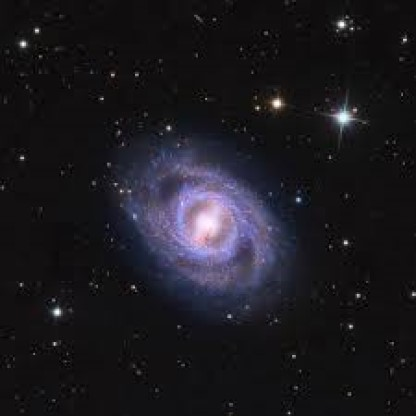Messier 95: (73, 116, 321, 333)
